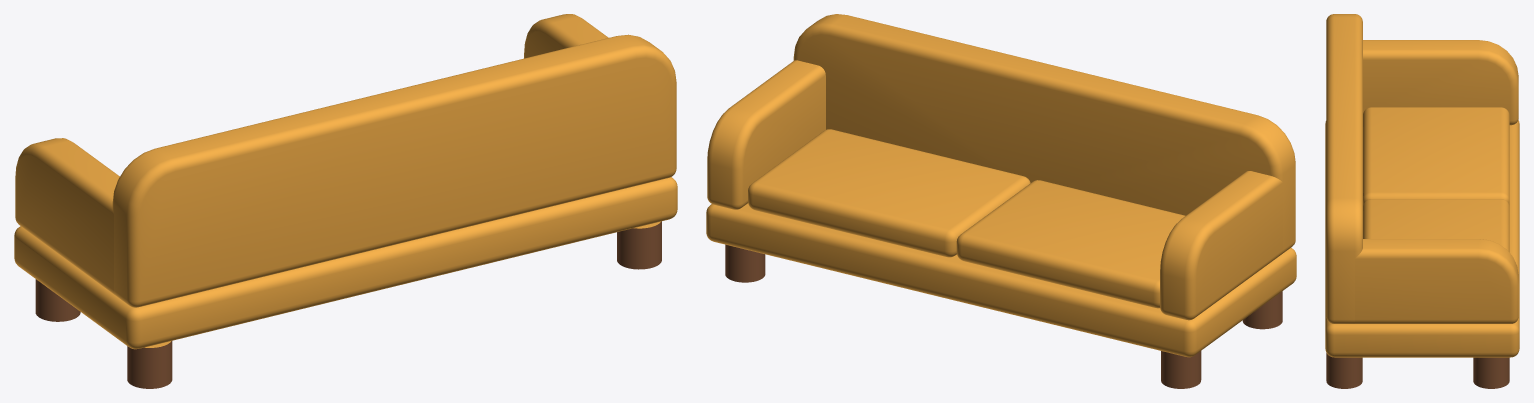
Rendered from Couch6.fbx.
3 views of the same model, side by side, from view 1: azimuth 30°, elevation 25°; view 2: azimuth 150°, elevation 25°; view 3: azimuth 270°, elevation 25° (orthographic). The views are drawn at different scales.
Parts seen in each view (by area): view 1: Couch6; view 2: Couch6; view 3: Couch6.
Boxes of the visible parts, x1=… form: Couch6: x1=14, y1=14, x2=677, y2=388; Couch6: x1=706, y1=14, x2=1296, y2=388; Couch6: x1=1325, y1=14, x2=1519, y2=388.
Size of the model in its own units: 208 by 80.14 by 79.32.
